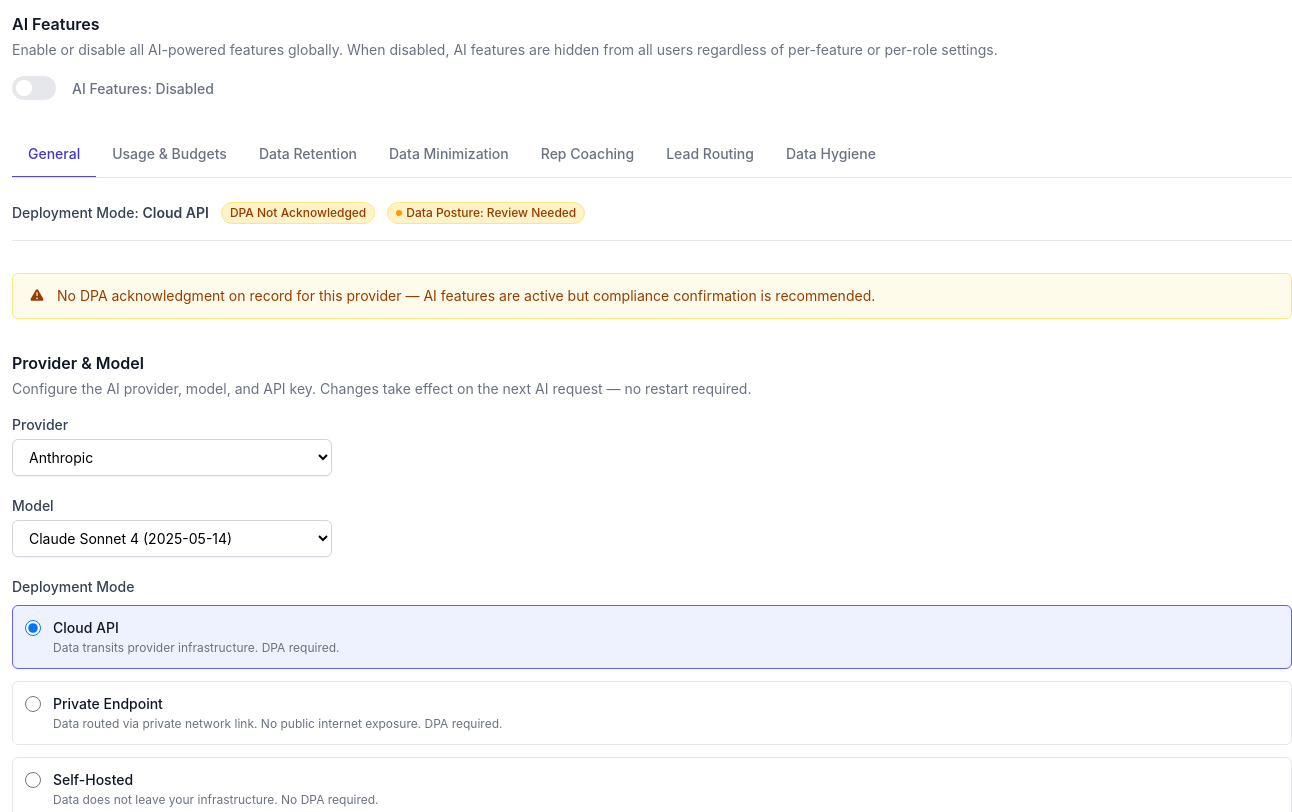
Test: AiSettings — sub-navigation › switches to the clicked section and only renders that section's content
Click the tab with test id "ai-settings-tab-data-retention" at coordinates (308, 155), box [243,132,373,178]
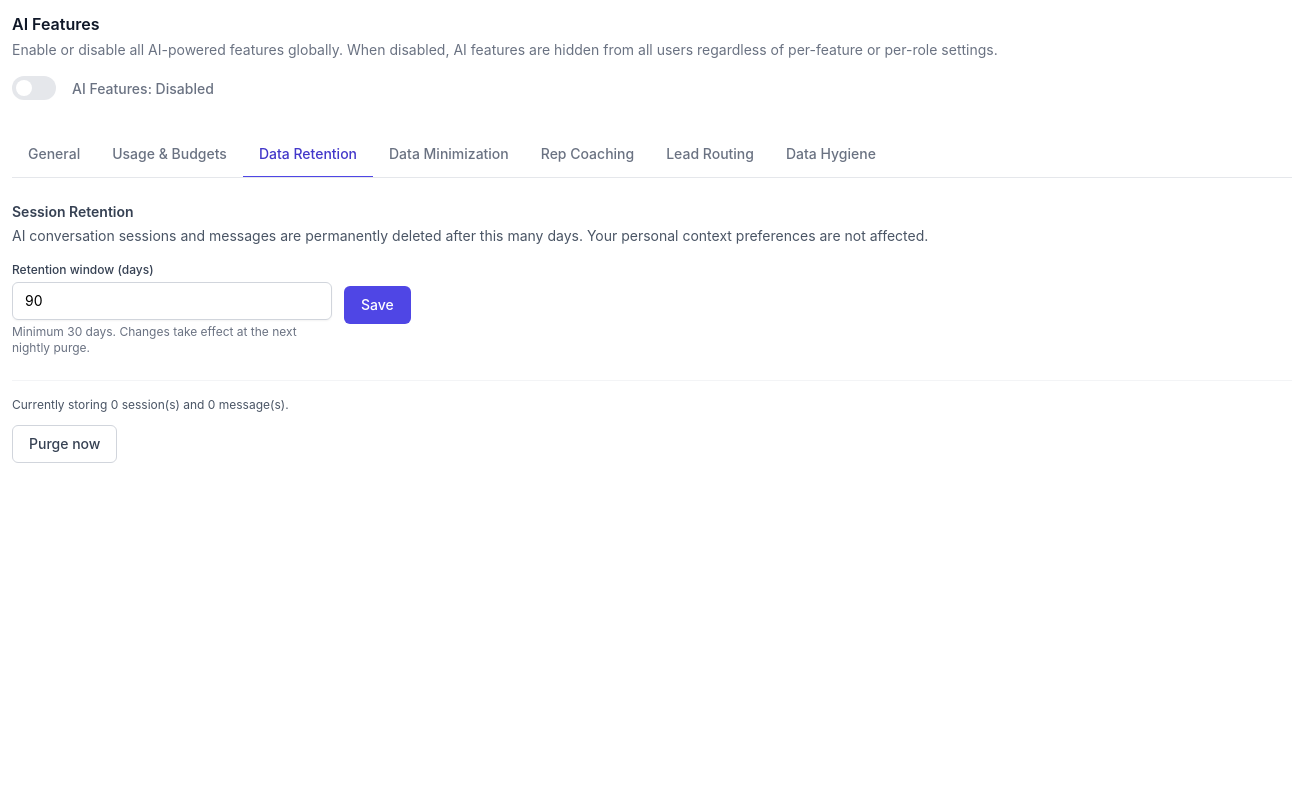
Result: the panel with test id "ai-settings-panel-data-retention" is shown at [12,202,1291,463]
Result: the number field with test id "ai-session-retention-days-input" is shown at [12,282,332,320]
Result: the label with test id "ai-provider-select" is gone
